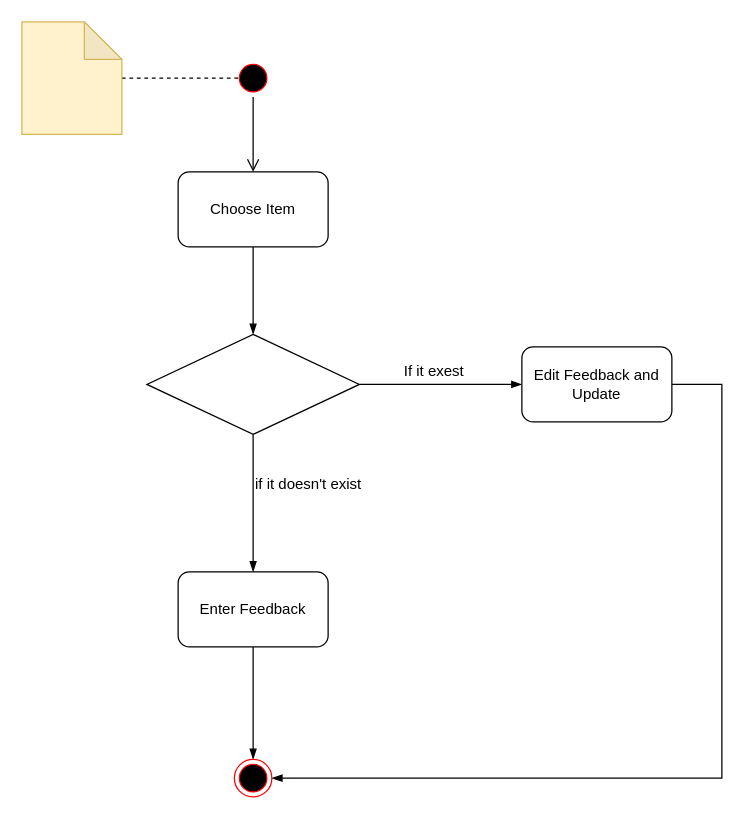
This 754x819 diagram has some shape labels left out. The shapes that lost their labels are listed below. From the top down, each one's centre as x and y in pixels, then its label:
At (x=71, y=77): "User Logged".
At (x=252, y=383): "Check user's feedback".
